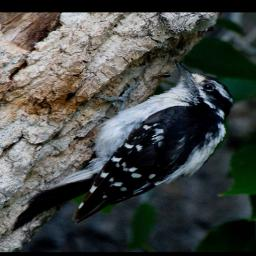Woodpecker: (7, 60, 239, 232)
